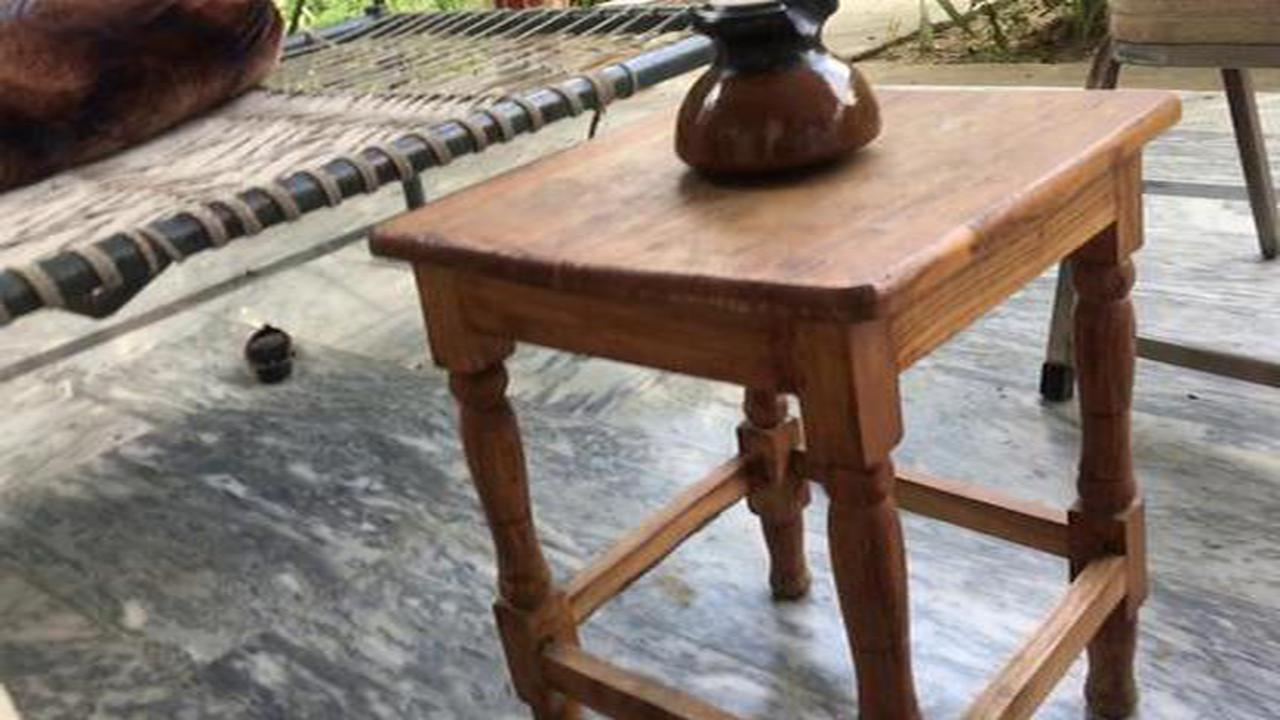insulator_pin: (656, 4, 908, 194)
